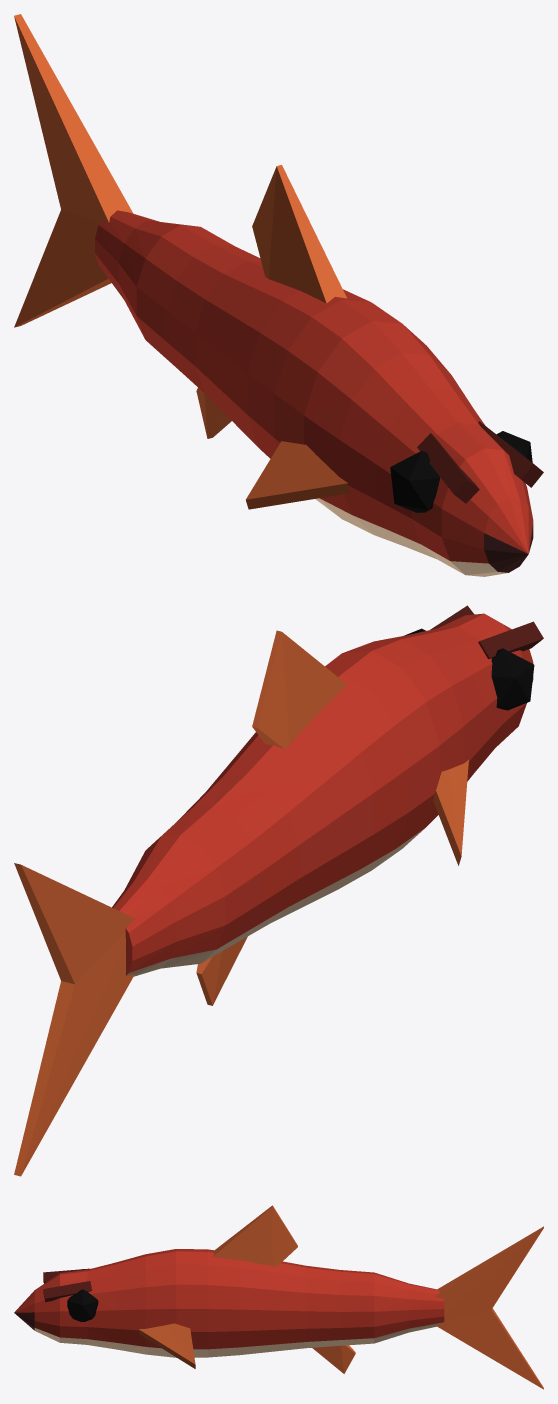
Rendered from FoeCharger.obj.
The picture shows the model from 3 angles, top to bottom: view 1: azimuth 30°, elevation 25°; view 2: azimuth 150°, elevation 25°; view 3: azimuth 270°, elevation 25°; orthographic projection. The views are drawn at different scales.
Parts seen in each view (by area): view 1: FoeCharger; view 2: FoeCharger; view 3: FoeCharger.
Boxes of the visible parts, x1=… form: FoeCharger: x1=14, y1=14, x2=543, y2=576; FoeCharger: x1=14, y1=605, x2=543, y2=1176; FoeCharger: x1=14, y1=1205, x2=543, y2=1389.
Size of the model in its own units: 0.2463 by 0.3848 by 1.01.
